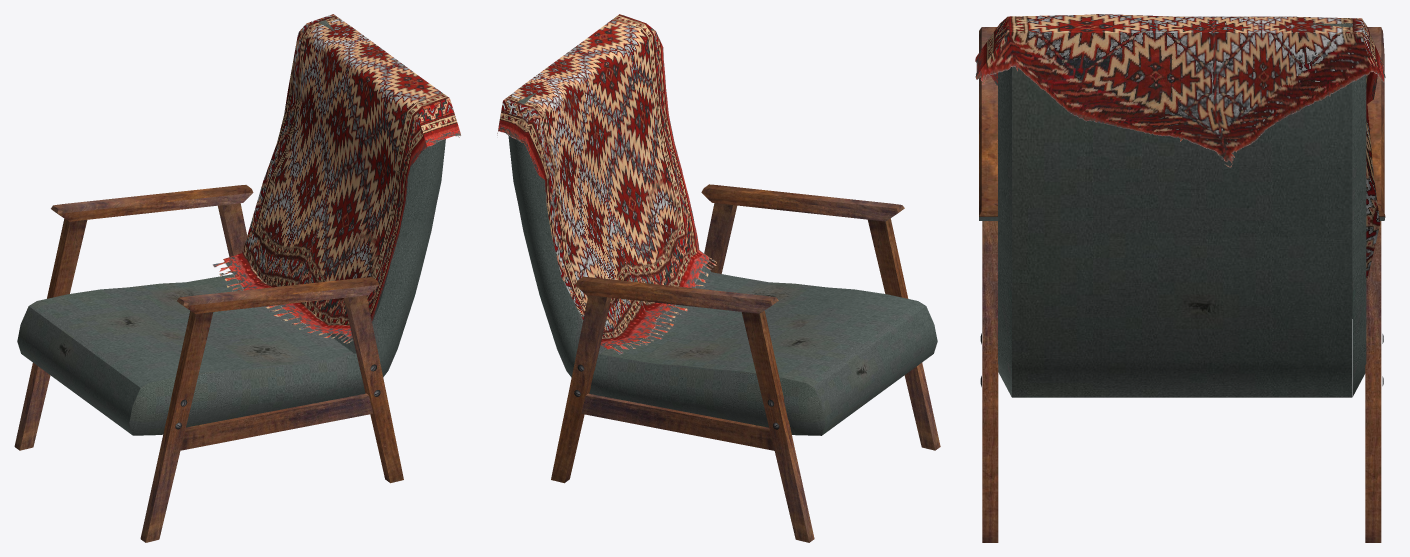
Rendered from armchair.FBX.
3 renders of one model, left to right at view 1: azimuth 30°, elevation 25°; view 2: azimuth 150°, elevation 25°; view 3: azimuth 270°, elevation 25°, orthographic. The views are drawn at different scales.
Parts seen in each view (by area): view 1: armchair; view 2: armchair; view 3: armchair.
Part boxes in pixels (bbox=[...]): armchair: bbox=[14, 14, 460, 542]; armchair: bbox=[497, 14, 940, 542]; armchair: bbox=[975, 14, 1385, 542].
Size of the model in its own units: 115 by 123 by 86.45.
